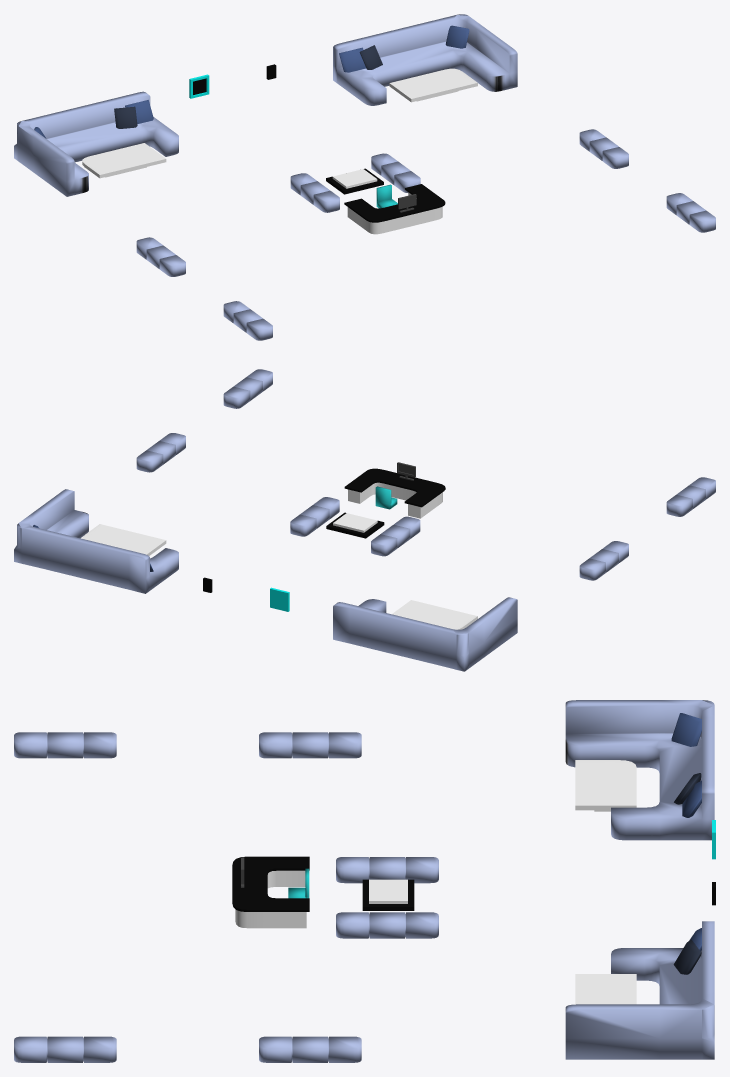
The model's file is add.fbx.
3 renders of one model, top to bottom at view 1: azimuth 30°, elevation 25°; view 2: azimuth 150°, elevation 25°; view 3: azimuth 270°, elevation 25°, orthographic. The views are drawn at different scales.
Parts seen in each view (by area): view 1: add; view 2: add; view 3: add.
Boxes of the visible parts, left/top/right/bottom form: add: left=14, top=14, right=715, bottom=340; add: left=14, top=369, right=715, bottom=671; add: left=14, top=700, right=715, bottom=1062.
Size of the model in its own units: 200 by 15.06 by 188.
